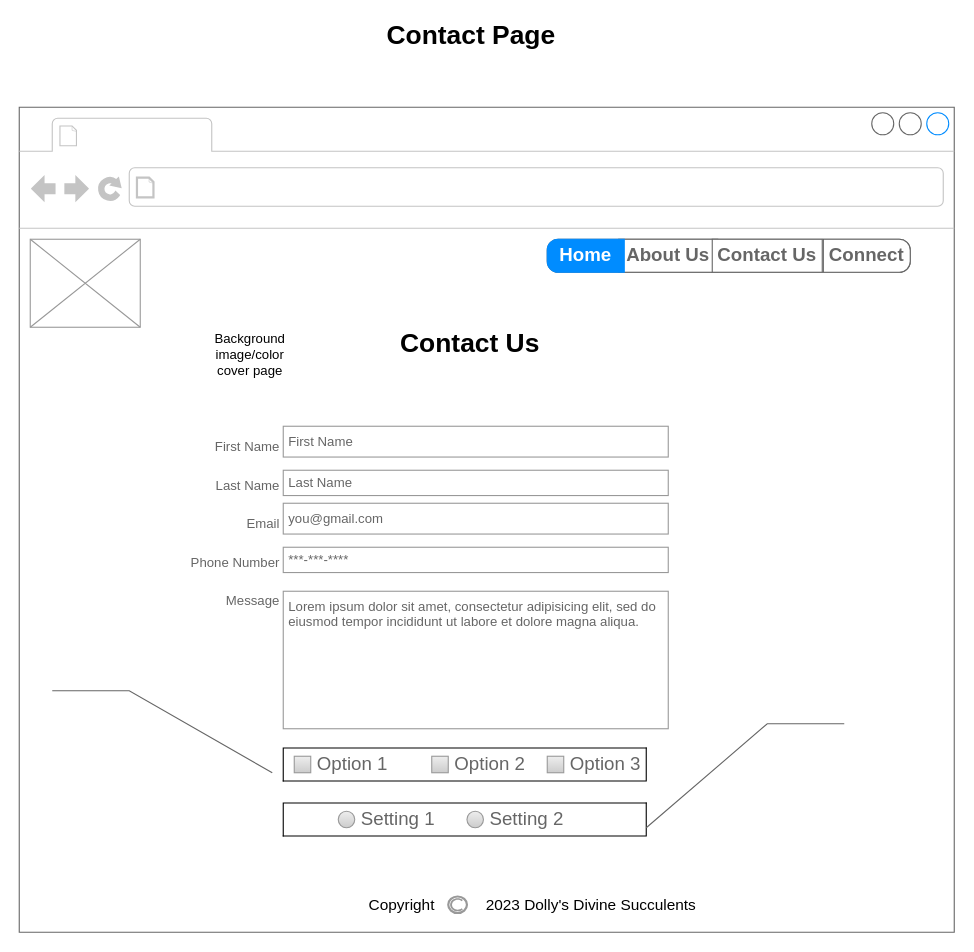
Some shapes in this 974 by 952 pixel diagram are drawn without their labels. The centre of each missing label's shape, as x and y in pixels:
Contact: the point at 145,134
https://www.dollysdivinesucculents.com/contact: the point at 381,187
logo: the point at 84,282
New Existing Unsubsscribe: the point at 161,717
suscribe to emails, promotions click an option Yes or No: the point at 744,761
